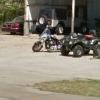Motorcycle: (25, 22, 100, 60)
